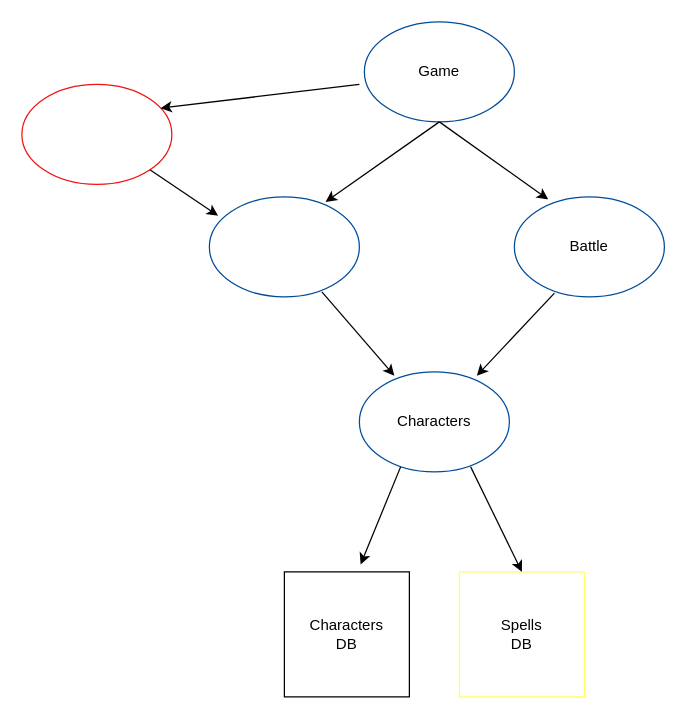
The diagram is 686 pixels wide and 719 high, and some of its shapes have lost their labels. The box of each missing label's shape, as (x1, y1, x2, y2) in pixels:
Player: (208, 196, 359, 297)
World ?: (21, 83, 172, 184)
